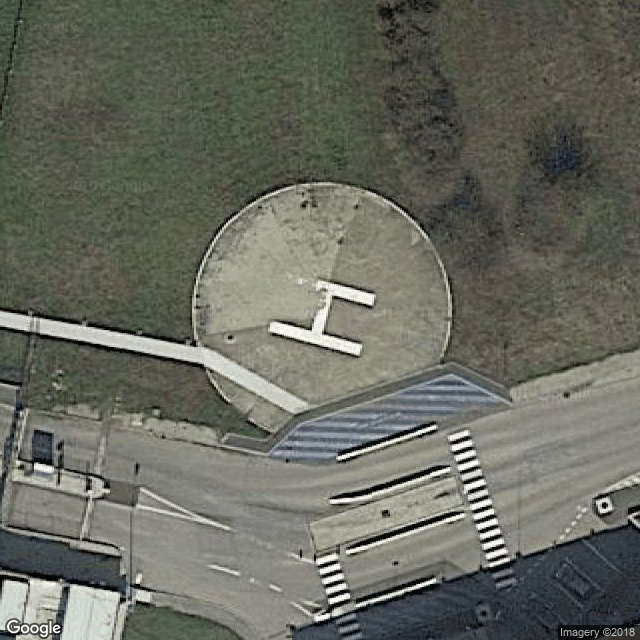heliport: (263, 259, 389, 363)
